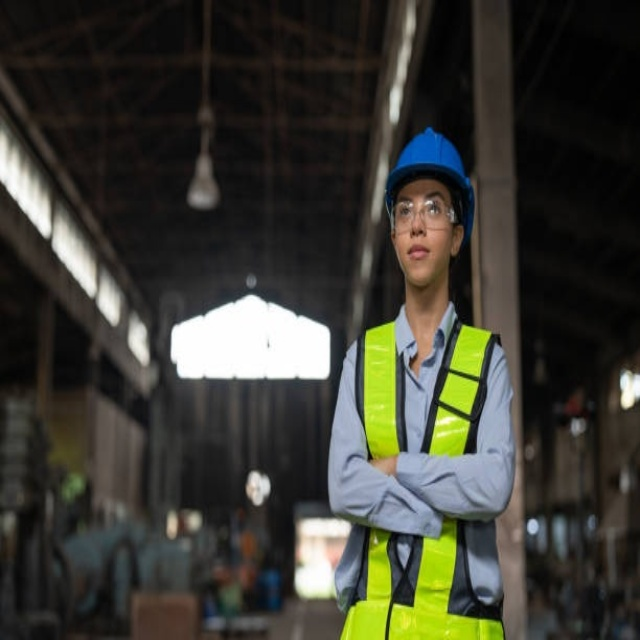Gafas: (389, 198, 461, 235)
Sin_mascara: (401, 235, 434, 276)
